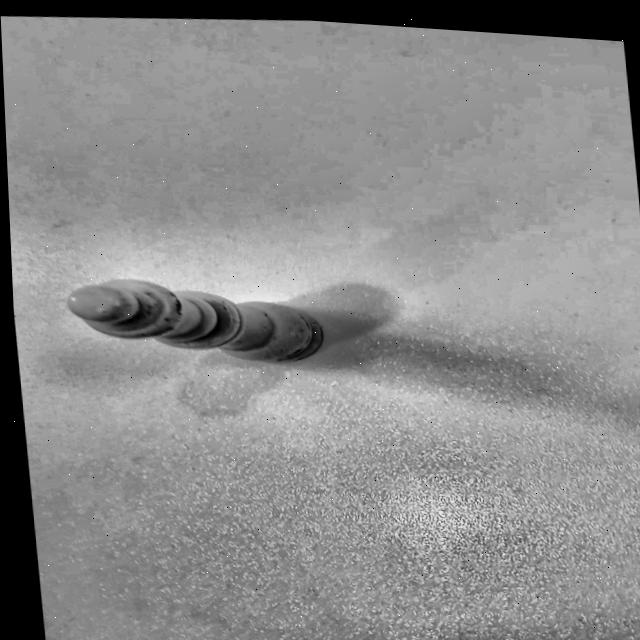white-queen: (37, 217, 391, 413)
